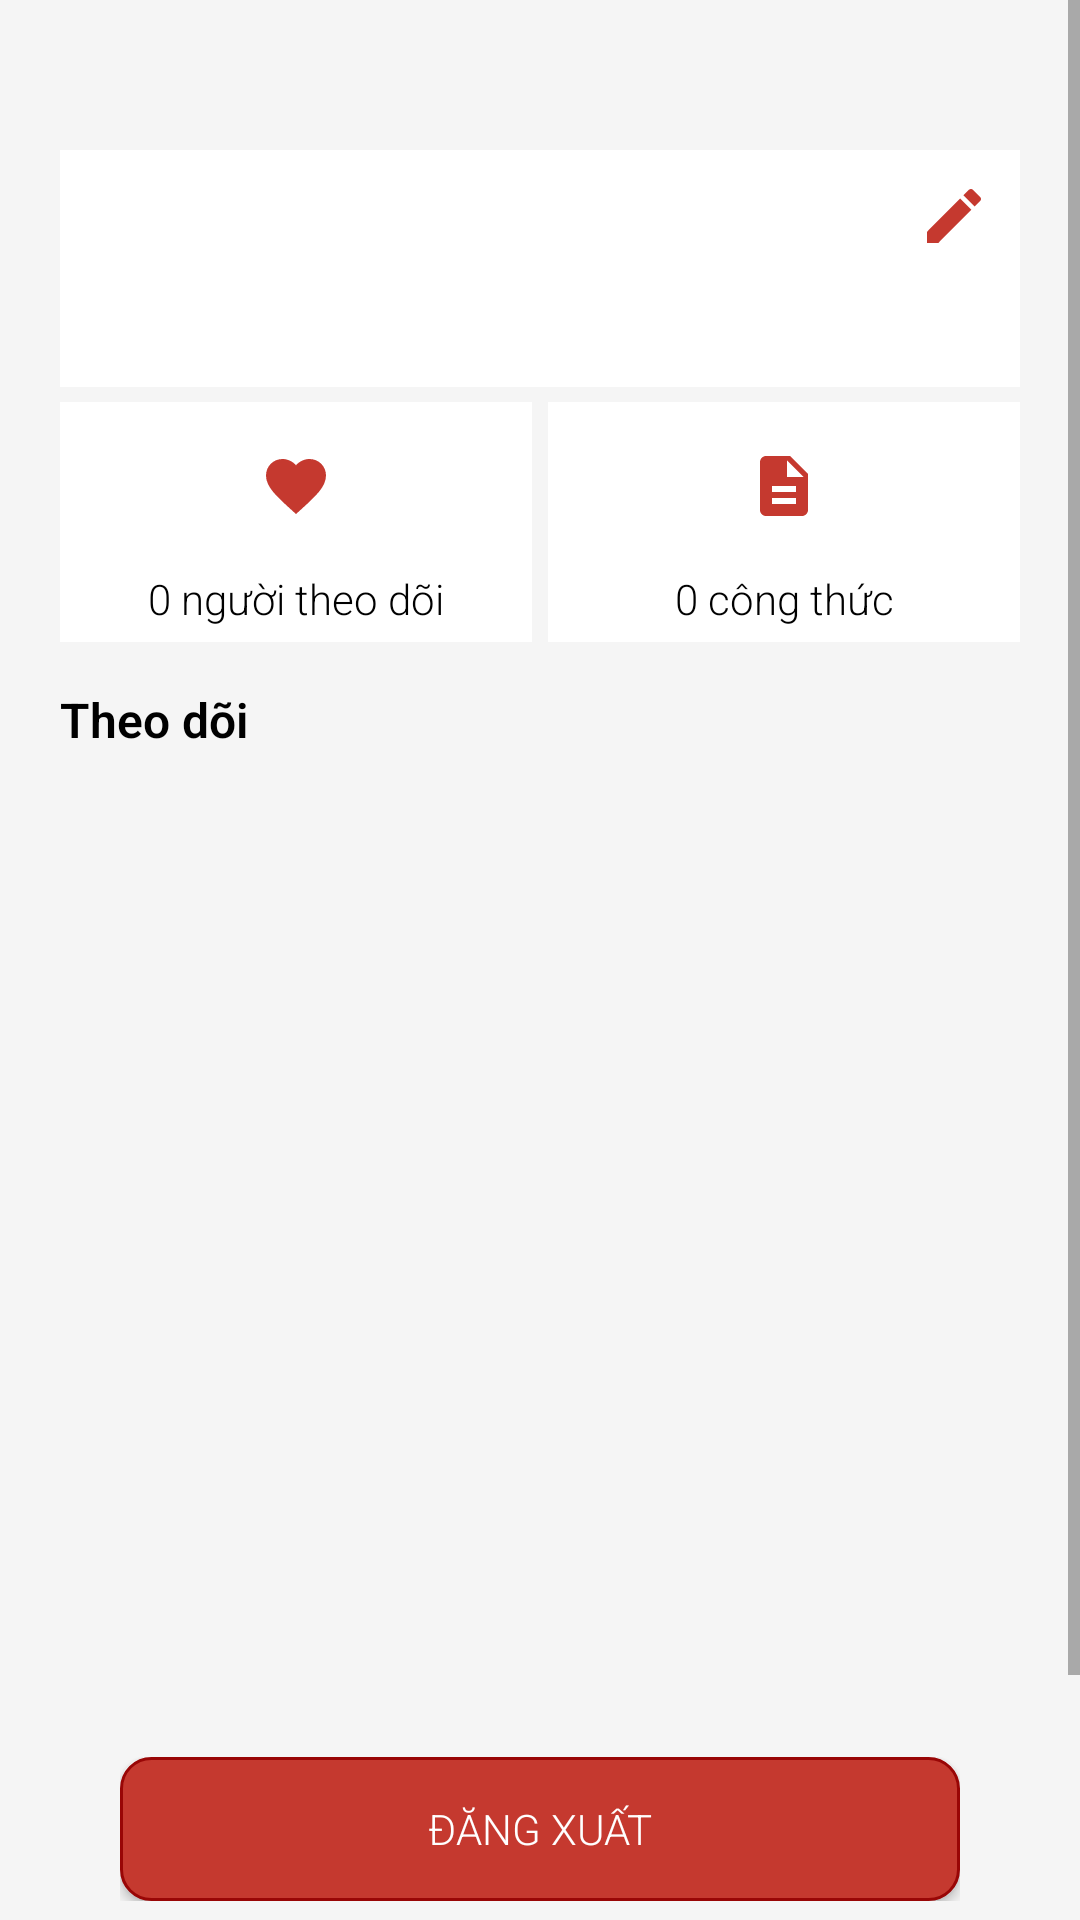

Screen size 1080px x 1920px. Icon name, then its box in pixels as (x1, y1, x2, y2):
edit: (927, 189, 981, 243)
favorite: (266, 459, 326, 514)
